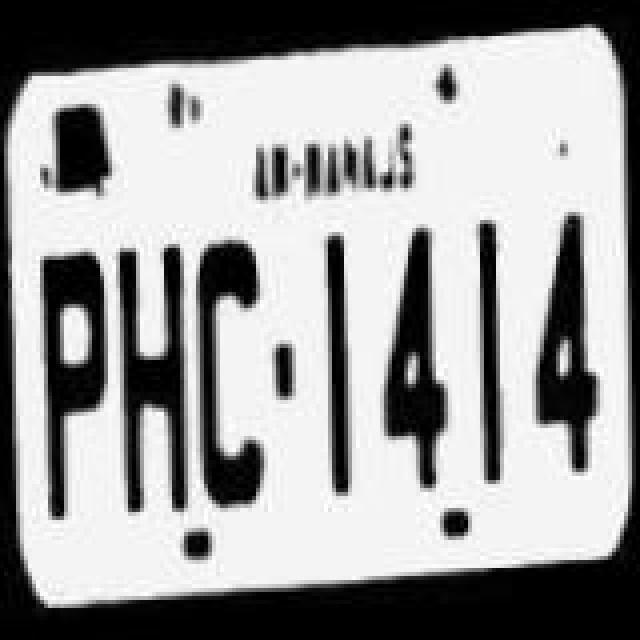1: (460, 212, 520, 492), (314, 216, 370, 500)
4: (518, 184, 618, 480), (374, 220, 462, 496)
C: (190, 230, 286, 522)
H: (110, 240, 198, 524)
P: (30, 244, 126, 540)
